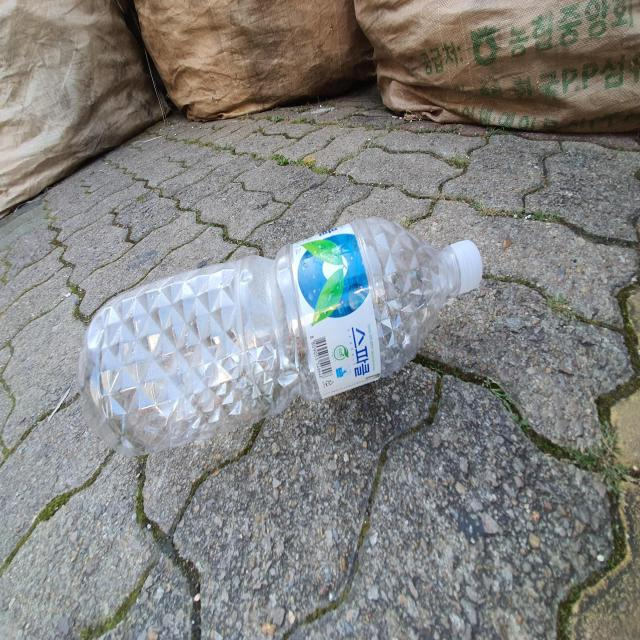plastic: (77, 217, 483, 456)
